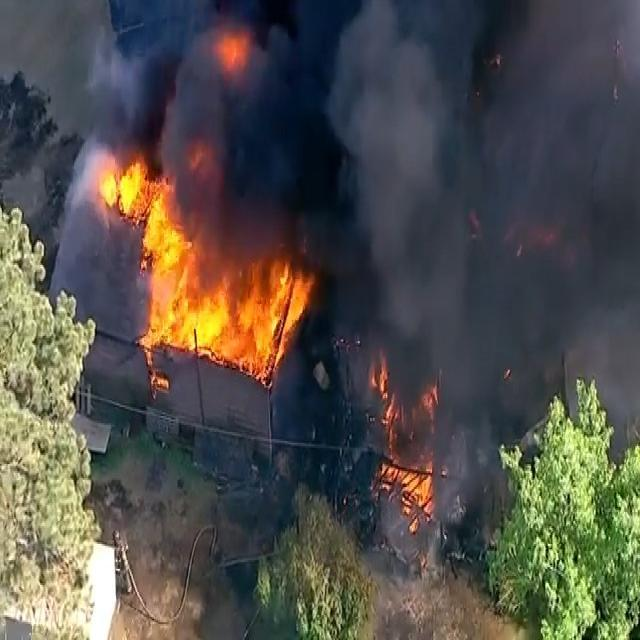Fire: (100, 151, 317, 402), (369, 348, 443, 532), (211, 23, 251, 75)
Smoke: (81, 0, 640, 444)
